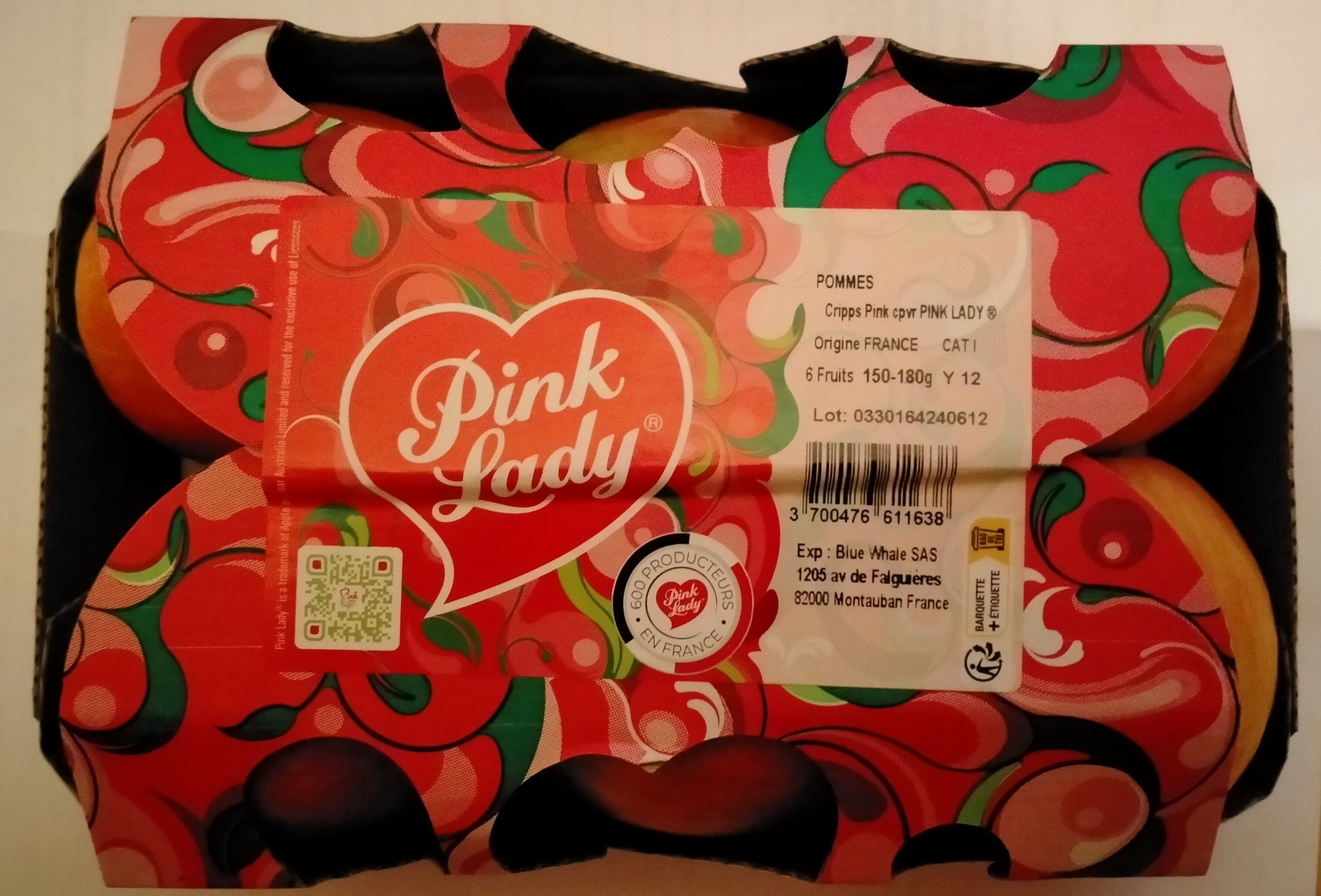Epler: (66, 45, 1255, 851)
